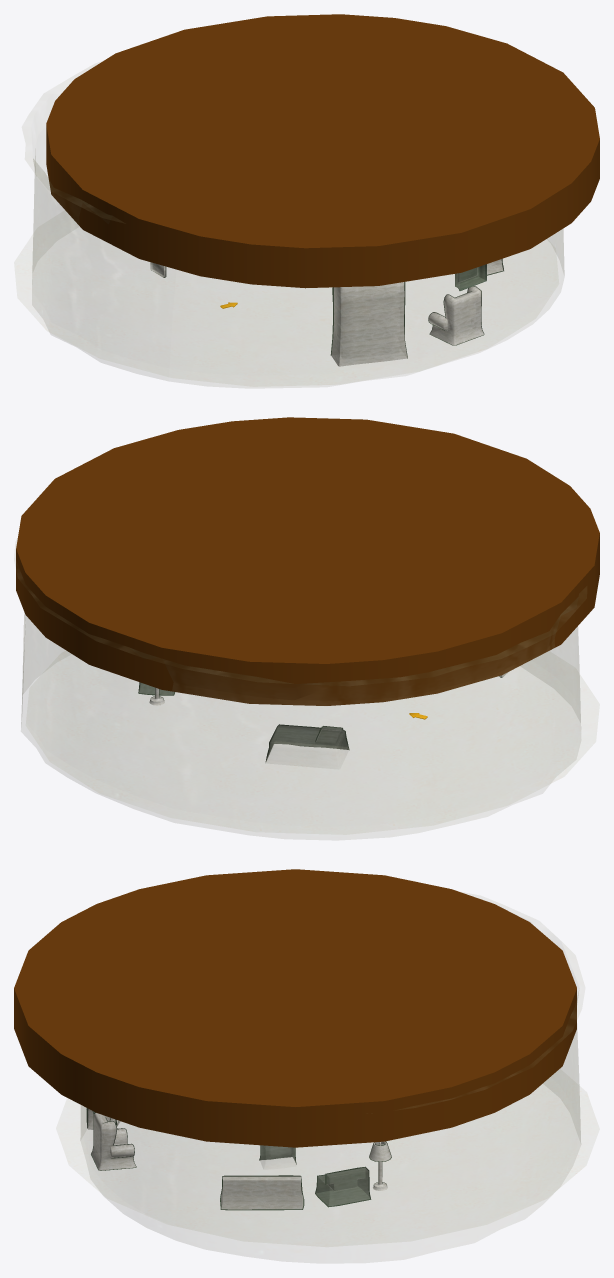
The model's file is patriciocasa.glb.
The picture shows the model from 3 angles, top to bottom: view 1: azimuth 30°, elevation 25°; view 2: azimuth 150°, elevation 25°; view 3: azimuth 270°, elevation 25°; orthographic projection. The views are drawn at different scales.
Parts seen in each view (by area): view 1: Object_12, Object_10, Object_9, Object_14, Object_11, Object_18, Object_7; view 2: Object_12, Object_10, Object_9, Object_2, Object_18; view 3: Object_12, Object_10, Object_9, Object_18, Object_5, Object_11, Object_4, Object_17, Object_8.
Part boxes in pixels (<box>): Object_12: <box>46,14,599,288</box>; Object_10: <box>28,79,564,387</box>; Object_9: <box>14,219,558,386</box>; Object_14: <box>331,282,407,366</box>; Object_11: <box>428,286,483,345</box>; Object_18: <box>151,258,503,358</box>; Object_7: <box>455,264,486,290</box>; Object_12: <box>16,417,599,705</box>; Object_10: <box>14,556,580,839</box>; Object_9: <box>26,656,599,834</box>; Object_2: <box>266,725,348,768</box>; Object_18: <box>138,676,502,761</box>; Object_12: <box>14,869,576,1147</box>; Object_10: <box>80,903,582,1262</box>; Object_9: <box>56,1078,599,1245</box>; Object_18: <box>86,1108,391,1210</box>; Object_5: <box>220,1176,303,1209</box>; Object_11: <box>91,1113,135,1170</box>; Object_4: <box>316,1168,369,1205</box>; Object_17: <box>260,1145,295,1168</box>; Object_8: <box>369,1141,391,1190</box>.
Size of the model in its own units: 107 by 33.13 by 107.
Materials: 17 (13 with a texture image).
